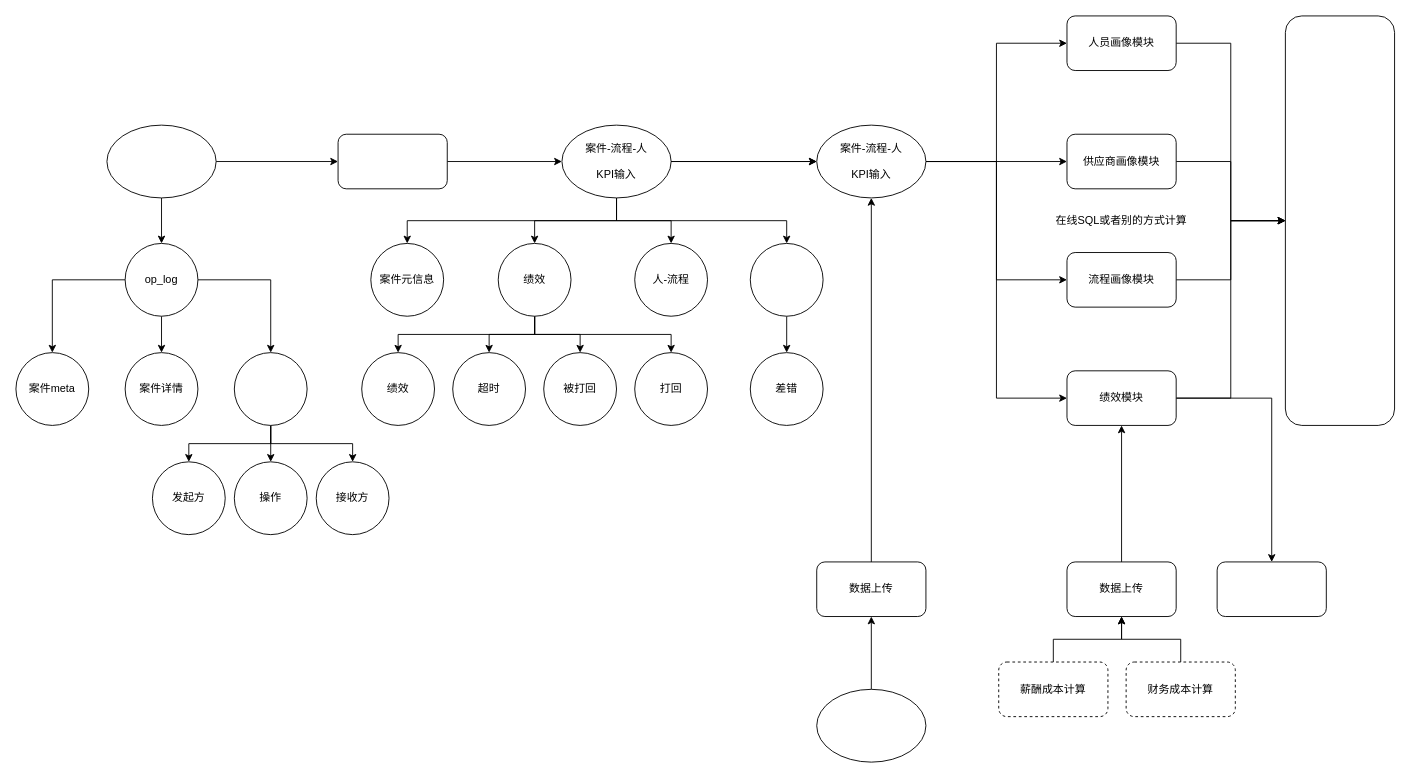
The diagram is 1411 pixels wide and 778 high, and some of its shapes have lost their labels. The shapes that lost their labels are listed below. From the top down, each one's box as (x1, y1, x2, y2) in pixels, then its label:
(106, 124, 216, 198): 输入数据
(337, 133, 447, 189): 序列处理模块 离线批处理
(1284, 15, 1395, 425): BI展示
(749, 243, 823, 316): KPI
(233, 352, 307, 425): operation信息 流转信息
(1216, 561, 1326, 617): 数据下载
(816, 688, 926, 762): 外部差错/超时
